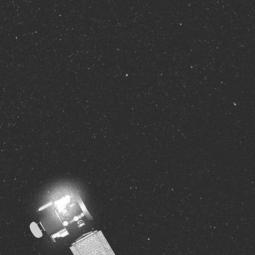earth_observation_sat_1: (19, 173, 126, 255)
